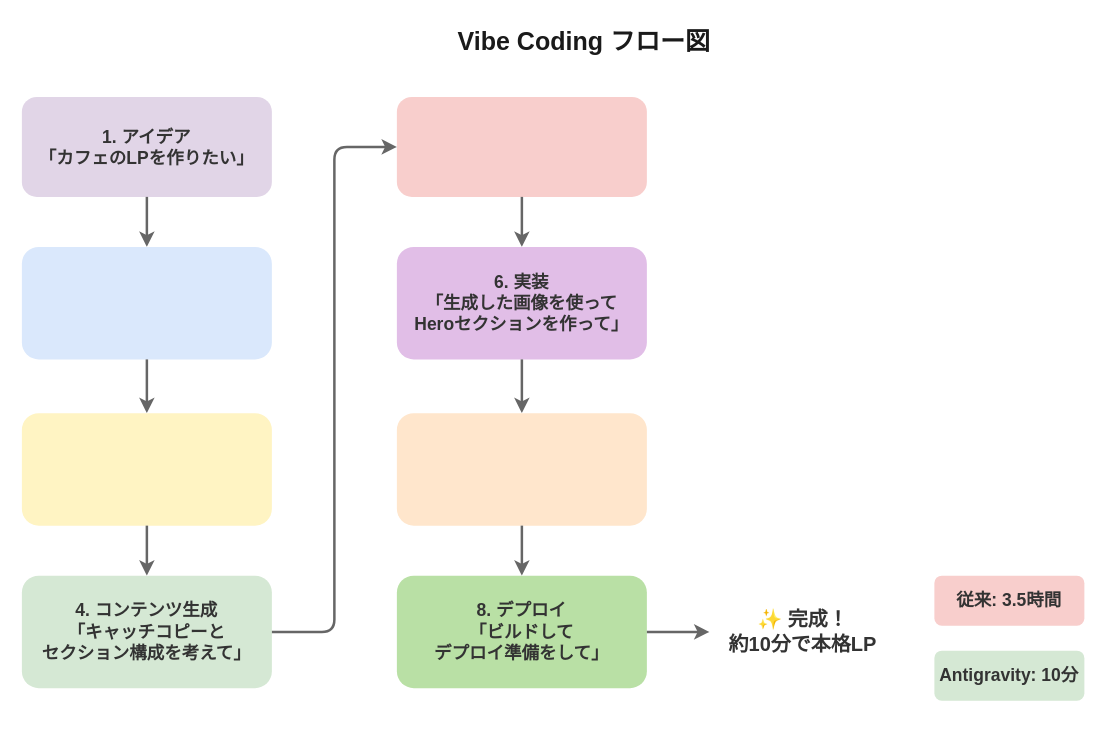
Some shapes in this 1105 by 746 pixel diagram are drawn without their labels. Here are the shapes that lost their labels. From the top down, the box of each, then its label:
(396, 96, 646, 196): 5. 画像生成 (Nano Banana) 「近未来カフェの店内、 4K、リアル」
(21, 246, 271, 359): 2. AIに指示 「Vite+React+TailwindCSSで モダンなカフェLPを作って」
(21, 412, 271, 525): ３. プロジェクト自動生成 ・環境構築 ・TailwindCSS設定 ・基本構造作成
(396, 412, 646, 525): 7. レビュー 「アクセシビリティと レスポンシブを確認」
